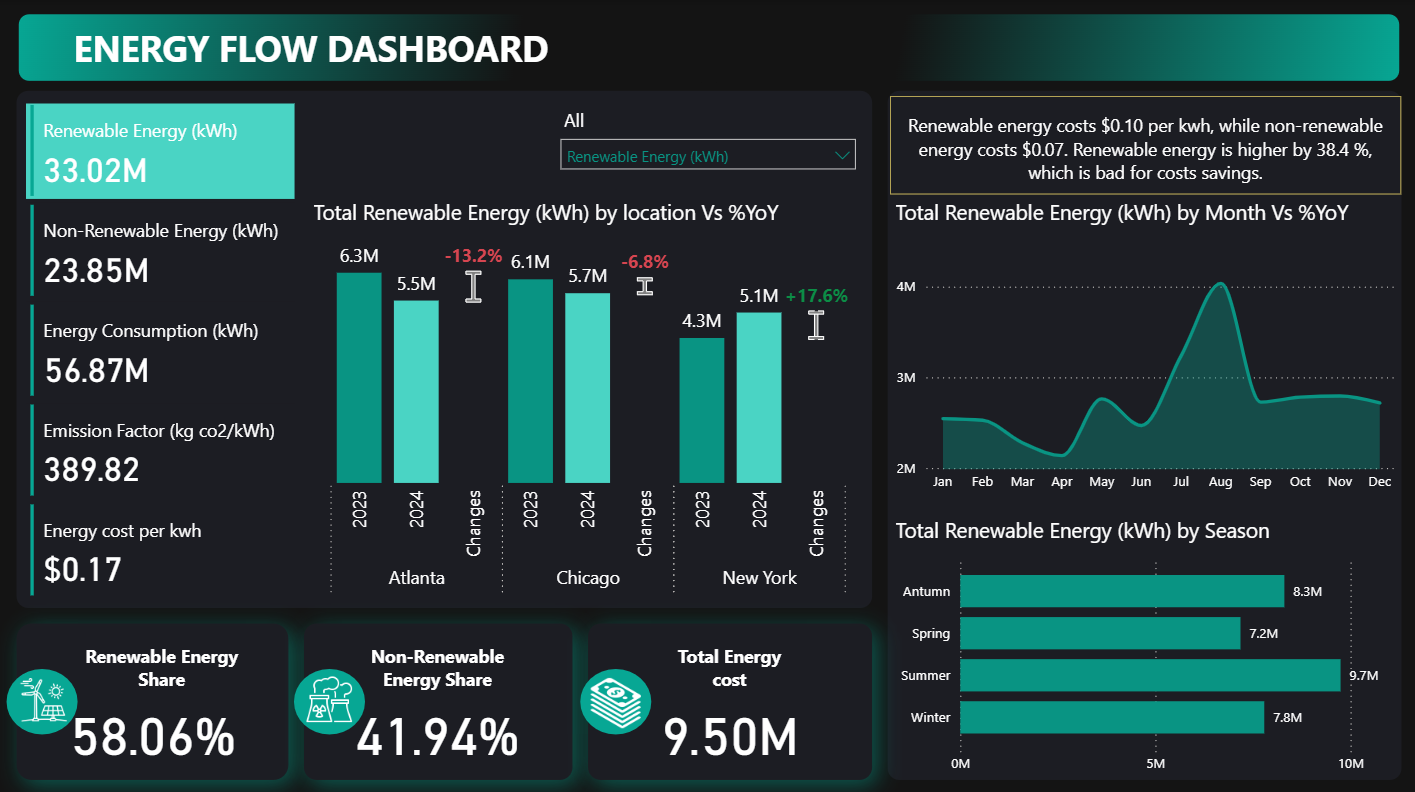

The dashboard page shown, as its layout file describes it:
{"tool":"powerbi","page":{"name":"Page 1","canvas":[1280,720],"ordinal":0},"visuals":[{"type":"shape","box":[24.2,363,242.3,86.3],"z":0},{"type":"shape","box":[24.2,271.8,242.3,86.3],"z":1000},{"type":"shape","box":[24.2,183,242.3,86.3],"z":2000},{"type":"shape","box":[24.2,93,242.3,86.3],"z":3000},{"type":"shape","box":[24.2,452,242.3,86.3],"z":4000},{"type":"cardVisual","fields":{"Data":["DAX House.Total Renewable Energy (kWh)","DAX House.Total Non-Renewable Energy (kWh)","DAX House.Total Energy Consumption (kWh)","DAX House.Emission Factor (kg co2/kWh)","DAX House.Energy cost per kwh"]},"box":[22.7,89.3,255.9,455.8],"z":5000},{"type":"clusteredColumnChart","fields":{"Category":["Data.Location","Year Table.Year"],"Y":["DAX House.YoY Changes"]},"box":[278.6,178.7,504.2,366.4],"z":6000},{"type":"slicer","fields":{"Values":["Switchable Measure.Switchable Measure"]},"box":[496.7,92.4,286.2,86.3],"z":7000},{"type":"card","fields":{"Values":["DAX House.Renewable Energy Share"]},"box":[37.9,623.9,200,66.6],"z":8000},{"type":"card","fields":{"Values":["DAX House.Non-Renewable Energy Share"]},"box":[295.3,623.9,200,66.6],"z":9000},{"type":"card","fields":{"Values":["DAX House.Energy cost (USD)"]},"box":[558.7,623.9,199.9,66.6],"z":10000},{"type":"textbox","box":[71.2,573.9,149.9,63.6],"z":11000},{"type":"textbox","box":[308.9,573.9,171.1,63.6],"z":12000},{"type":"textbox","box":[589,573.9,137.8,63.6],"z":13000},{"type":"lineChart","fields":{"Category":["Calendar.Month_Name"],"Y":["Switchable Measure.Group Measures"]},"box":[803.2,178.6,460.4,273],"z":14000},{"type":"clusteredBarChart","fields":{"Category":["Calendar.Season"],"Y":["Switchable Measure.Group Measures"]},"box":[803.2,464.8,460.4,241.1],"z":15000},{"type":"textbox","box":[62.1,16.7,526.9,56],"z":16000},{"type":"card","fields":{"Values":["DAX House.Energy Cost Summary"]},"box":[803.2,87,460.4,88.6],"z":17000},{"type":"image","box":[7,605,60.6,55],"z":18000},{"type":"image","box":[268,603,60,55.5],"z":19000},{"type":"image","box":[526,605.5,60,55.5],"z":20000}]}

Visuals, with their boxes in screenshot pixels (x1, y1, x2, y2), scaled from the page's 1280x720 canvas onto the 1415x792 screenshot:
shape: l=27, t=399, r=295, b=494
shape: l=27, t=299, r=295, b=394
shape: l=27, t=201, r=295, b=296
shape: l=27, t=102, r=295, b=197
shape: l=27, t=497, r=295, b=592
cardVisual - DAX House.Total Renewable Energy (kWh) x DAX House.Total Non-Renewable Energy (kWh): l=25, t=98, r=308, b=600
clusteredColumnChart - Data.Location x Year Table.Year: l=308, t=197, r=865, b=600
slicer - Switchable Measure.Switchable Measure: l=549, t=102, r=865, b=197
card - DAX House.Renewable Energy Share: l=42, t=686, r=263, b=760
card - DAX House.Non-Renewable Energy Share: l=326, t=686, r=548, b=760
card - DAX House.Energy cost (USD): l=618, t=686, r=839, b=760
textbox: l=79, t=631, r=244, b=701
textbox: l=341, t=631, r=531, b=701
textbox: l=651, t=631, r=803, b=701
lineChart - Calendar.Month_Name x Switchable Measure.Group Measures: l=888, t=196, r=1397, b=497
clusteredBarChart - Calendar.Season x Switchable Measure.Group Measures: l=888, t=511, r=1397, b=776
textbox: l=69, t=18, r=651, b=80
card - DAX House.Energy Cost Summary: l=888, t=96, r=1397, b=193
image: l=8, t=666, r=75, b=726
image: l=296, t=663, r=363, b=724
image: l=581, t=666, r=648, b=727
